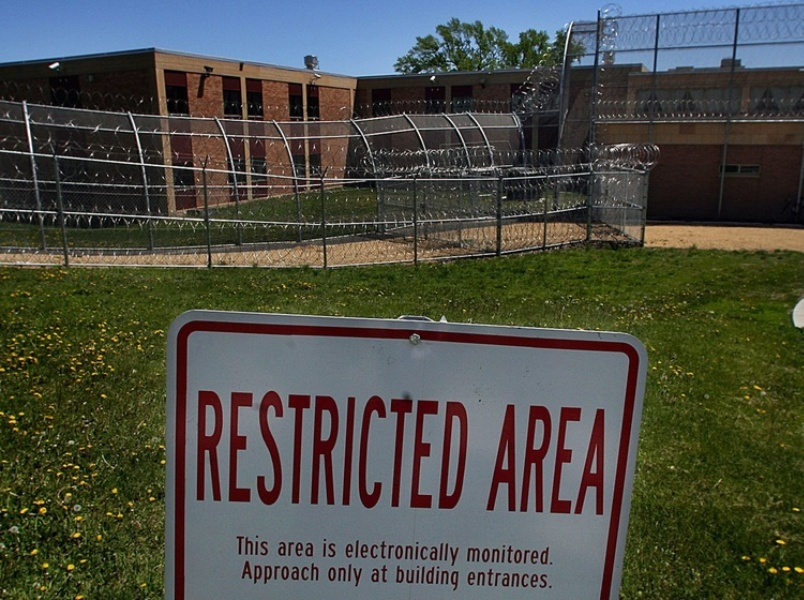text: (209, 386, 224, 518), (225, 386, 240, 518), (241, 386, 256, 518), (257, 386, 272, 518), (273, 386, 288, 518), (289, 386, 304, 518), (305, 386, 320, 518), (321, 386, 336, 518), (337, 386, 352, 518), (353, 386, 368, 518), (369, 386, 384, 518), (385, 386, 400, 518), (401, 386, 416, 518), (417, 386, 432, 518), (433, 386, 448, 518), (449, 386, 464, 518), (513, 404, 528, 520), (529, 404, 544, 520), (545, 404, 560, 520), (561, 404, 576, 520), (577, 404, 592, 520), (593, 404, 608, 520), (195, 386, 208, 518), (502, 404, 512, 520), (465, 386, 473, 518), (401, 563, 416, 594), (417, 563, 432, 594), (433, 563, 448, 594), (449, 563, 464, 594), (465, 539, 480, 569), (481, 539, 496, 569), (497, 539, 512, 569), (513, 539, 528, 569), (529, 539, 544, 569), (353, 538, 368, 566), (369, 538, 384, 566), (385, 538, 400, 566), (401, 538, 416, 566), (417, 538, 432, 566), (433, 538, 448, 566), (465, 565, 480, 593), (481, 565, 496, 593), (497, 565, 512, 593), (513, 565, 528, 593), (529, 565, 544, 593), (370, 560, 384, 588), (241, 532, 256, 558), (241, 560, 256, 586), (257, 560, 272, 586), (273, 560, 288, 586), (289, 560, 304, 586), (305, 560, 320, 586), (337, 562, 352, 588), (257, 532, 271, 558), (545, 539, 557, 569), (609, 404, 612, 520), (322, 537, 336, 561), (449, 538, 461, 566), (289, 541, 304, 561), (353, 562, 364, 588), (545, 565, 555, 593), (305, 541, 317, 561), (327, 562, 336, 588), (278, 541, 288, 561), (345, 538, 352, 566), (395, 563, 400, 594), (385, 560, 389, 588), (236, 532, 240, 558), (321, 560, 323, 586)
